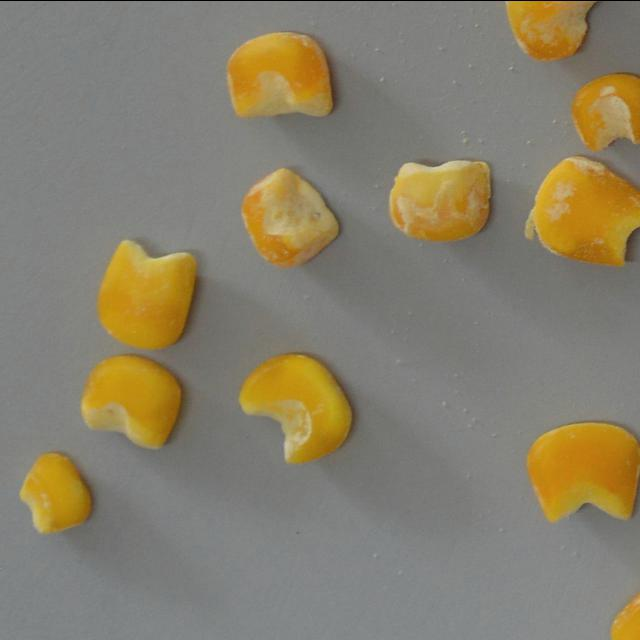no_canjicado: (237, 351, 354, 466), (525, 420, 640, 525), (96, 239, 198, 352), (77, 354, 184, 450)
pelicula: (530, 164, 640, 266), (240, 167, 340, 270), (224, 32, 332, 120), (388, 160, 491, 244), (504, 0, 608, 61), (18, 452, 91, 534), (571, 72, 640, 152), (610, 570, 640, 640)
